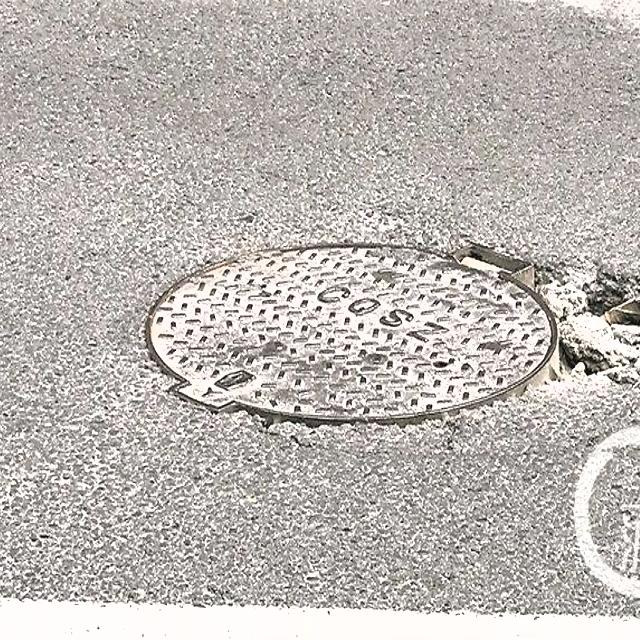circle: (137, 231, 640, 448)
